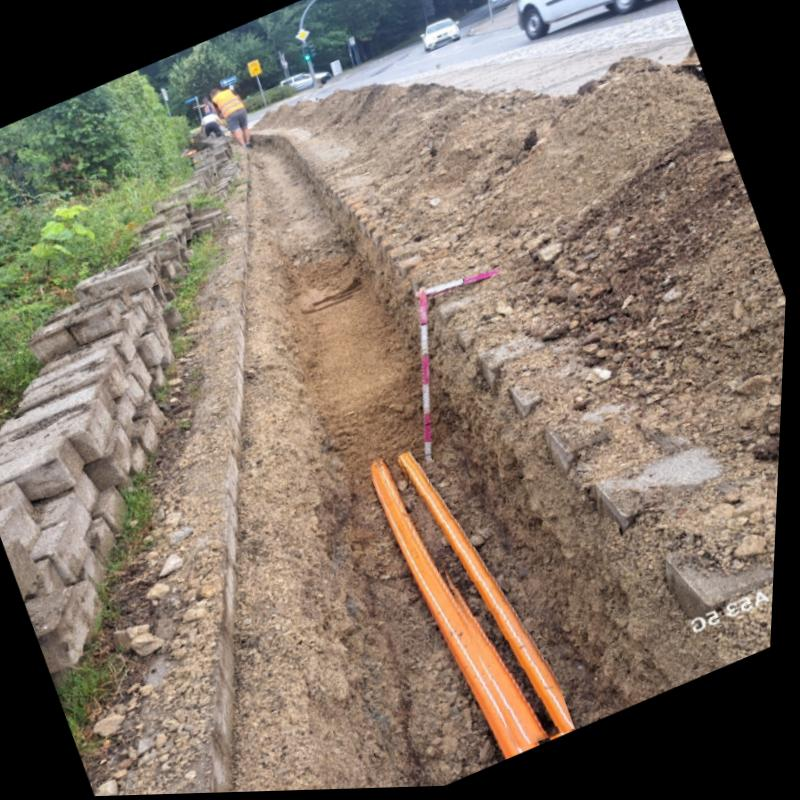Orang-Speednetrohrchen: (375, 460, 545, 760), (404, 455, 582, 739)
